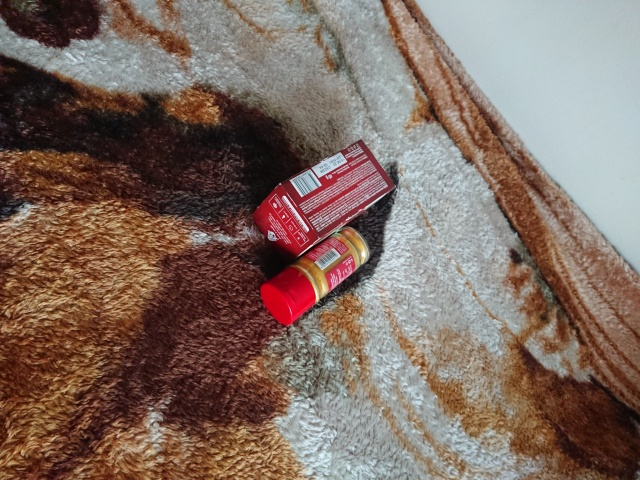Franck Apple Cinnamon Tea 60g: (249, 136, 399, 265)
Kotanyi Curry Spices Mix 70g: (257, 224, 373, 328)
